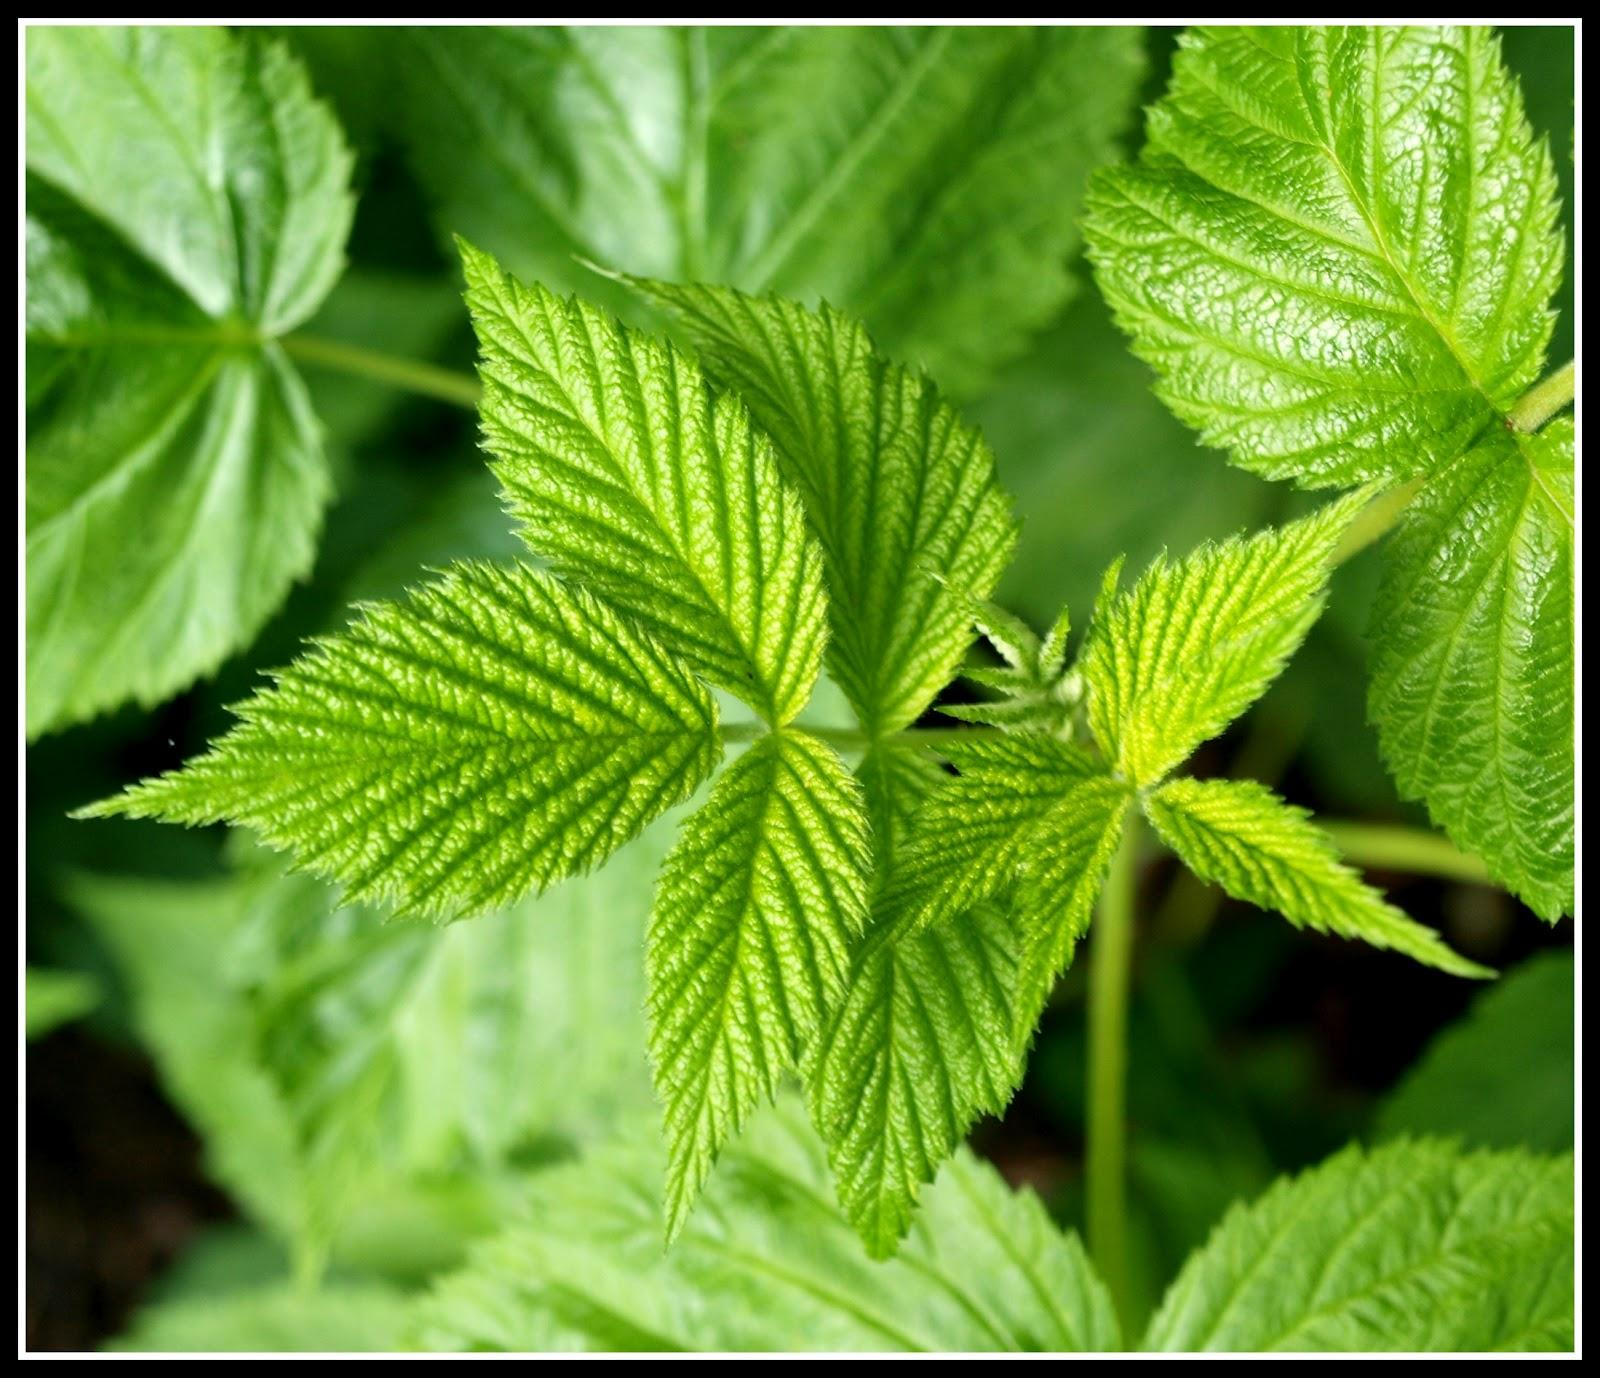Raspberry leaf: (57, 554, 727, 917), (449, 229, 837, 743), (639, 729, 861, 1208), (1093, 463, 1395, 784)
